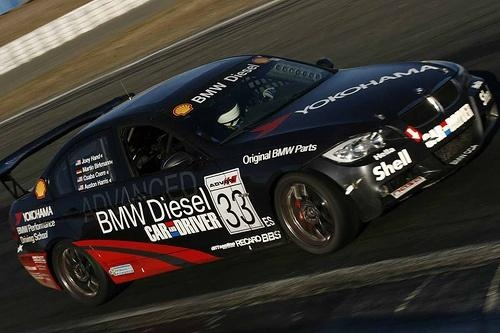car: (1, 53, 498, 308)
